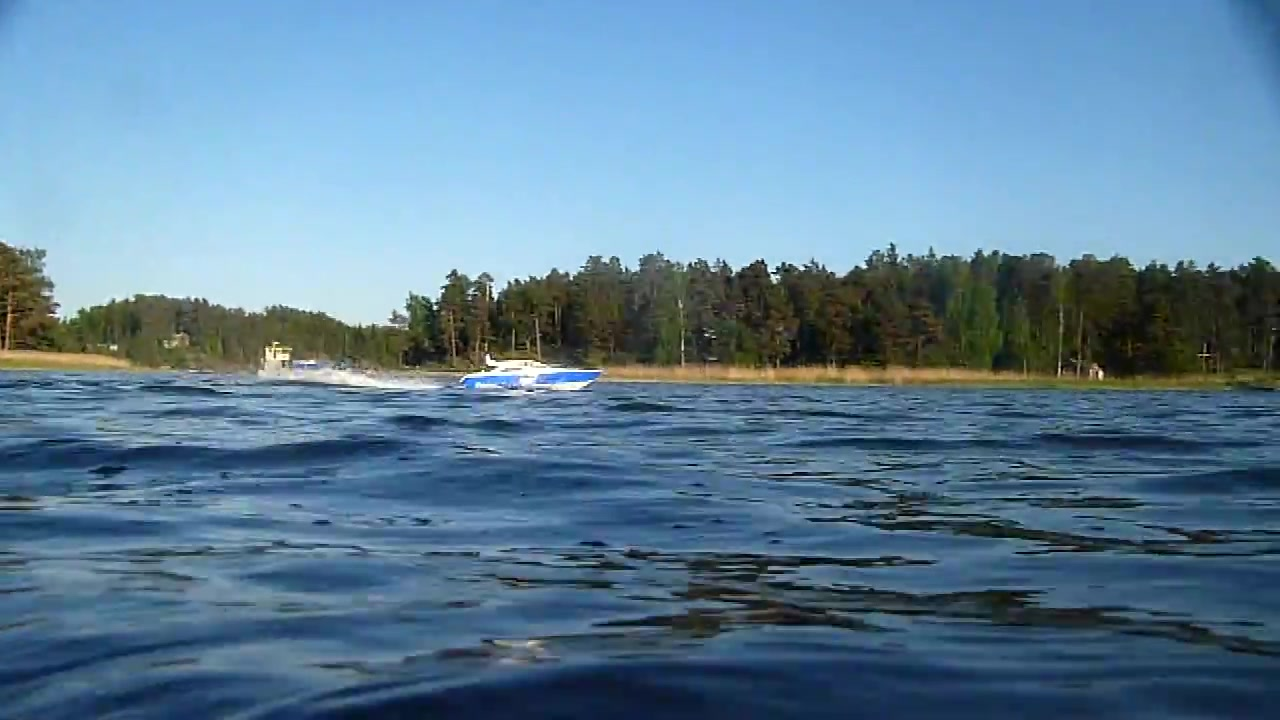boat: (462, 355, 605, 399)
